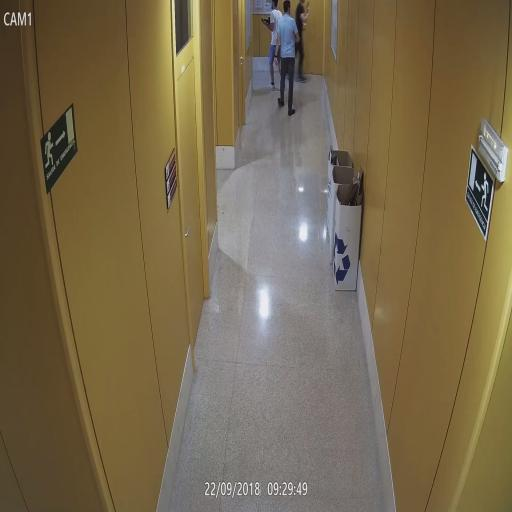Handgun: (304, 0, 312, 15)
